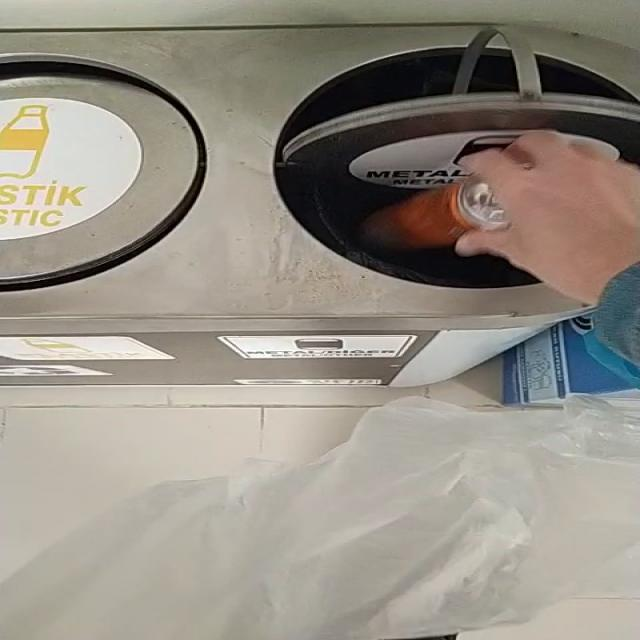bin: (0, 29, 588, 395)
metal: (363, 177, 511, 250)
